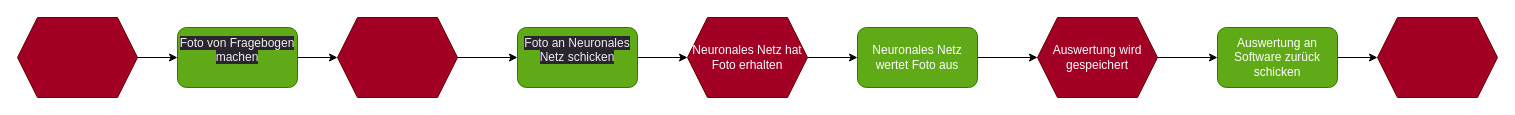
Some shapes in this 1515 by 115 pixel diagram are drawn without their labels. Here are the shapes that lost their labels. From the top down, the box of each, then its label:
(16, 16, 138, 98): Benutzter öffnet Software
(336, 16, 458, 98): Foto gespeichert
(1376, 16, 1498, 98): Anzeigen der Auswertung
